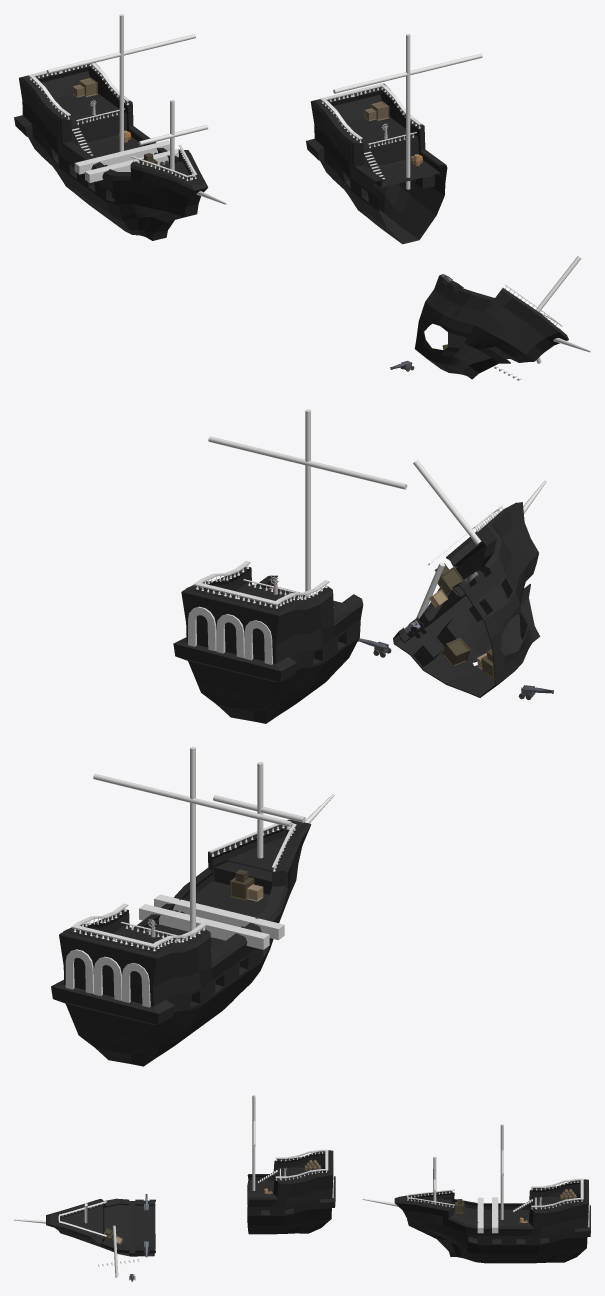
The model's file is ship.fbx.
The picture shows the model from 3 angles, top to bottom: view 1: azimuth 30°, elevation 25°; view 2: azimuth 150°, elevation 25°; view 3: azimuth 270°, elevation 25°; orthographic projection. The views are drawn at different scales.
Parts seen in each view (by area): view 1: Ship Body, Ship Body.001, Ship Body.002, Cube.005, Pillar 1.002, Pillar 1.003, Pillar 1.001, Cube.006, Pillar 1, Cube.016, Cube.002; view 2: Ship Body, Ship Body.001, Ship Body.002, Cube.005, Cube.006, Pillar 1.003, Pillar 1.001, Pillar 1, Pillar 1.002, Cube.016, Cube.002; view 3: Ship Body, Ship Body.001, Ship Body.002, Cube.016, Cube.002, Pillar 1, Pillar 1.002.
Part boxes in pixels (box(x1,y1,x2,y2)): Ship Body: box(14, 63, 208, 240); Ship Body.001: box(306, 83, 447, 244); Ship Body.002: box(414, 274, 568, 379); Cube.005: box(74, 140, 169, 174); Pillar 1.002: box(406, 33, 410, 189); Pillar 1.003: box(333, 53, 482, 93); Pillar 1.001: box(46, 34, 195, 73); Cube.006: box(85, 148, 179, 182); Pillar 1: box(119, 14, 123, 151); Cube.016: box(320, 83, 421, 139); Cube.002: box(28, 63, 129, 115); Ship Body: box(51, 819, 311, 1066); Ship Body.001: box(173, 567, 363, 723); Ship Body.002: box(393, 502, 539, 697); Cube.005: box(139, 904, 269, 949); Cube.006: box(154, 894, 284, 940); Pillar 1.003: box(208, 436, 407, 489); Pillar 1.001: box(93, 773, 291, 826); Pillar 1: box(190, 746, 195, 936); Pillar 1.002: box(305, 409, 310, 597); Cube.016: box(193, 561, 329, 605); Cube.002: box(71, 903, 206, 948); Ship Body: box(394, 1179, 590, 1263); Ship Body.001: box(247, 1150, 335, 1234); Ship Body.002: box(46, 1198, 155, 1256); Cube.016: box(275, 1149, 328, 1178); Cube.002: box(531, 1178, 583, 1207); Pillar 1: box(500, 1124, 503, 1219); Pillar 1.002: box(252, 1095, 255, 1190).
Bounding box in the file's own units: 6220 × 7141 × 18891.
